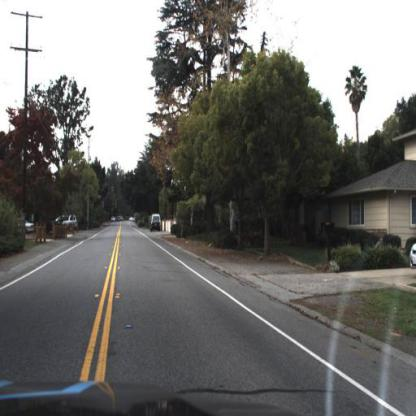car: (51, 209, 87, 239), (150, 213, 164, 234), (21, 217, 38, 233)
